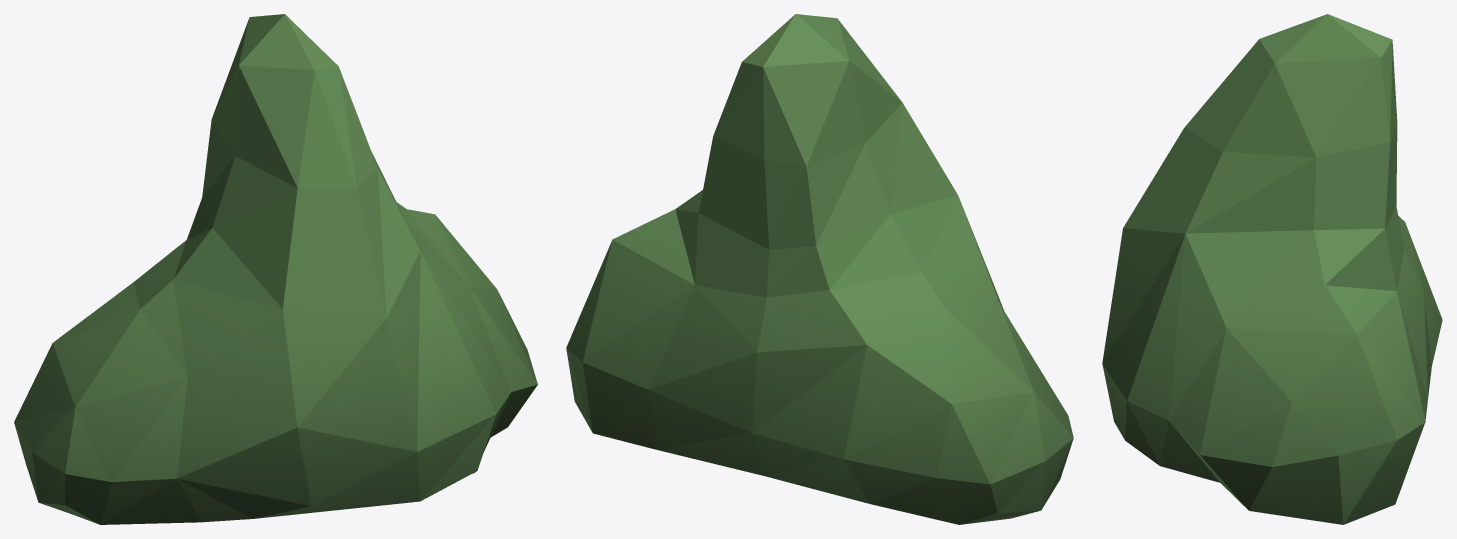
Rendered from Jungle_Bush_E.fbx.
3 renders of one model, left to right at view 1: azimuth 30°, elevation 25°; view 2: azimuth 150°, elevation 25°; view 3: azimuth 270°, elevation 25°, orthographic. The views are drawn at different scales.
Visible parts, largest first — view 1: Jungle_Bush_E; view 2: Jungle_Bush_E; view 3: Jungle_Bush_E.
Part boxes in pixels (box(x1,y1,x2,y2)): Jungle_Bush_E: box(14, 14, 537, 524); Jungle_Bush_E: box(566, 14, 1073, 524); Jungle_Bush_E: box(1102, 14, 1442, 524).
Size of the model in its own units: 1.81 by 1.67 by 1.2.
1 material, 1 textured.
